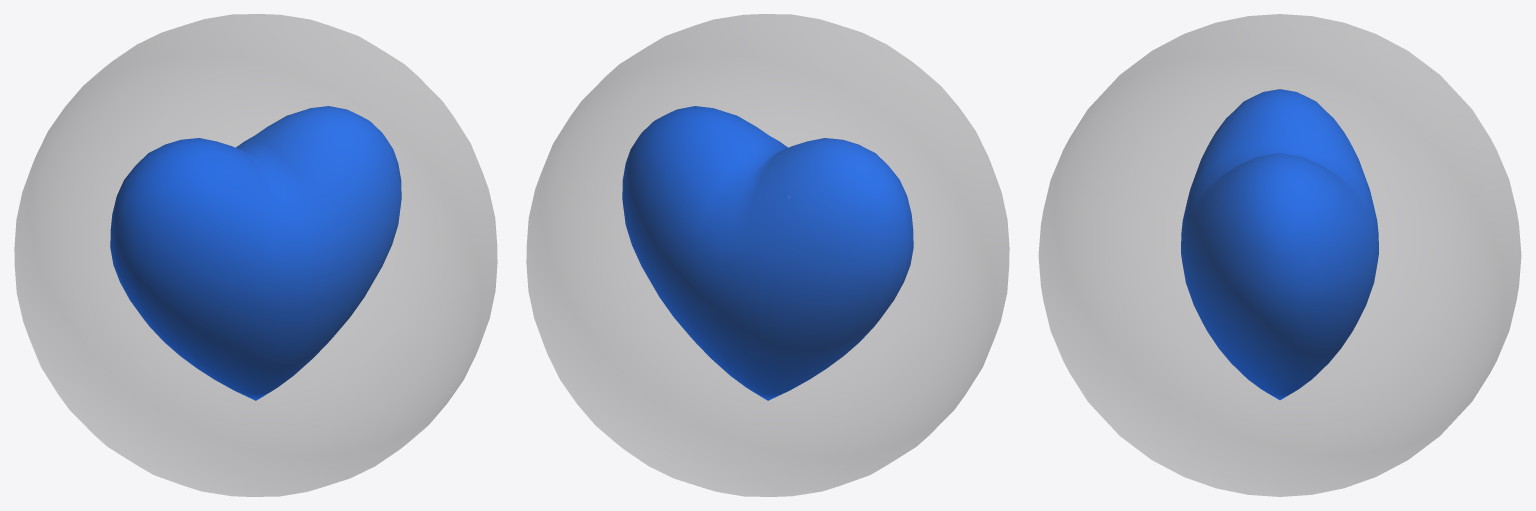
The model's file is heart.gltf.
The picture shows the model from 3 angles, left to right: view 1: azimuth 30°, elevation 25°; view 2: azimuth 150°, elevation 25°; view 3: azimuth 270°, elevation 25°; orthographic projection.
Visible parts, largest first — view 1: Marble_Marble_0_6, Heart_Heart_0_4; view 2: Marble_Marble_0_6, Heart_Heart_0_4; view 3: Marble_Marble_0_6, Heart_Heart_0_4.
Part boxes in pixels (x1,y1,x2,y2): Marble_Marble_0_6: [14, 14, 497, 496]; Heart_Heart_0_4: [110, 106, 401, 400]; Marble_Marble_0_6: [526, 14, 1009, 496]; Heart_Heart_0_4: [622, 106, 913, 400]; Marble_Marble_0_6: [1038, 14, 1521, 496]; Heart_Heart_0_4: [1181, 89, 1378, 399].
Size of the model in its own units: 200 by 200 by 200.
Materials: 2 (1 with a texture image).
